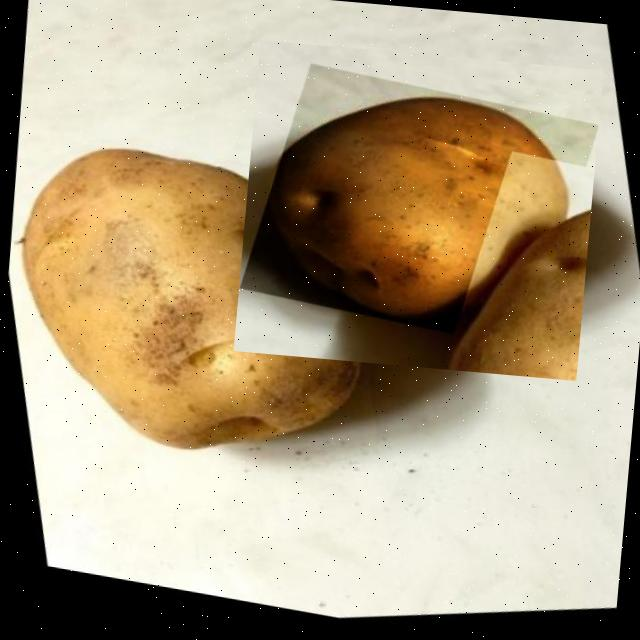Potato: (0, 91, 405, 517), (233, 39, 603, 380)
